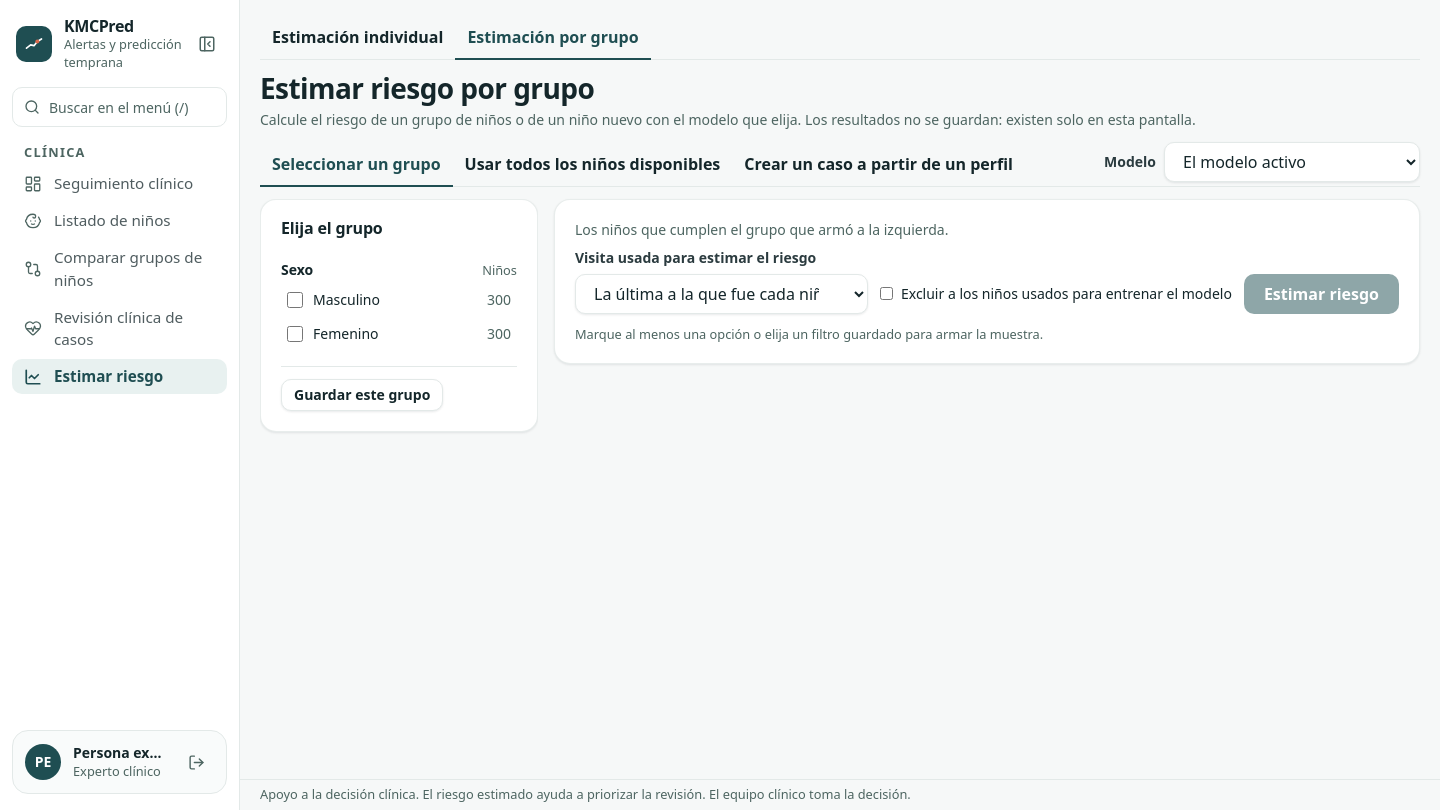
Test case: predicción › ofrece los tres modos como pestañas y el enlace «Calcular un niño» en Clínica
Expected: the heading "Estimar riesgo por grupo" is shown, [260,69,594,107]
Expected: the link "Estimar riesgo" is shown, [12,359,227,394]
Click the tab "Crear un caso a partir de un perfil".
click(879, 165)  # box [732,143,1025,187]
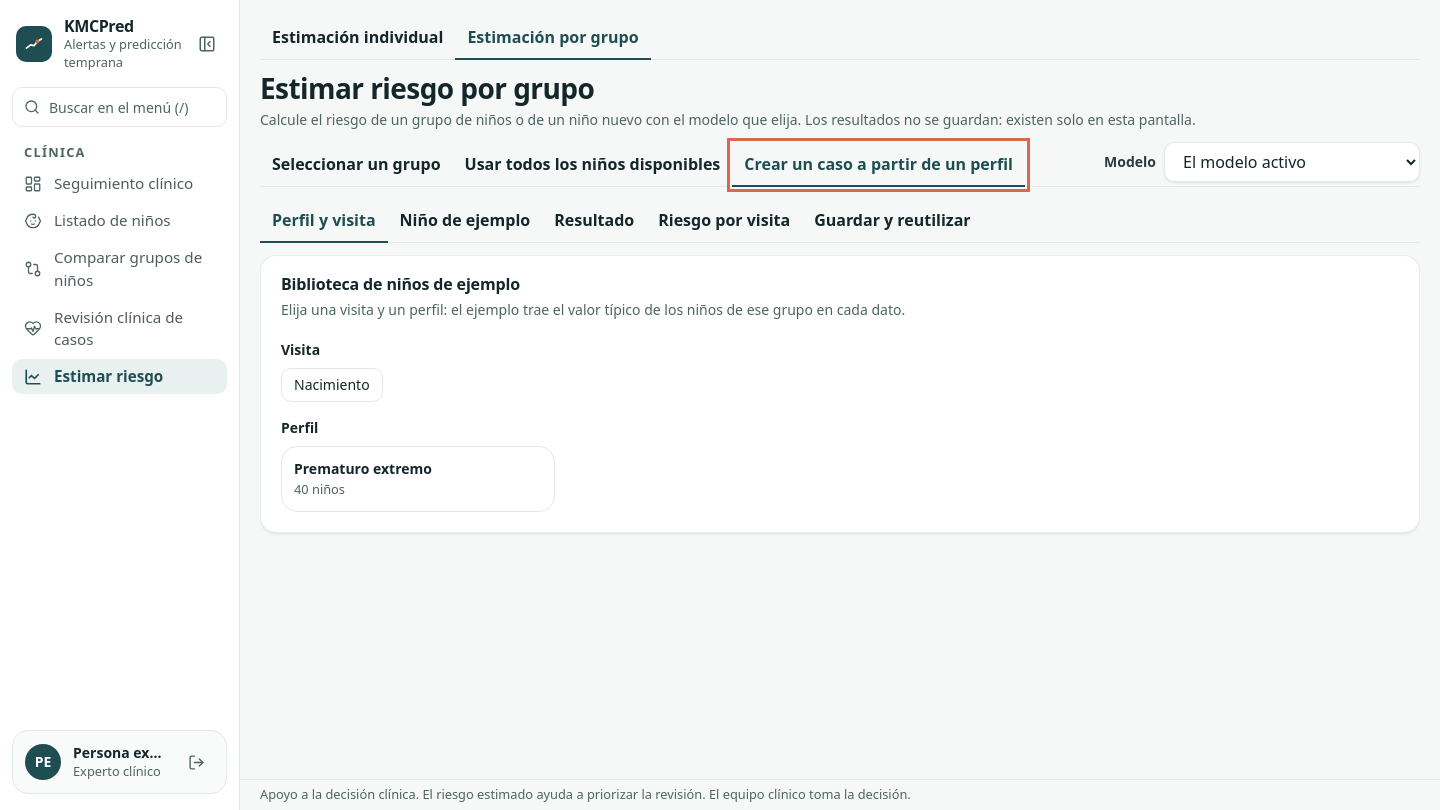
Result: the heading "Biblioteca de niños de ejemplo" is shown at [281,272,520,296]
Result: the button "Prematuro extremo 40 niños" is shown at [281,446,554,512]
